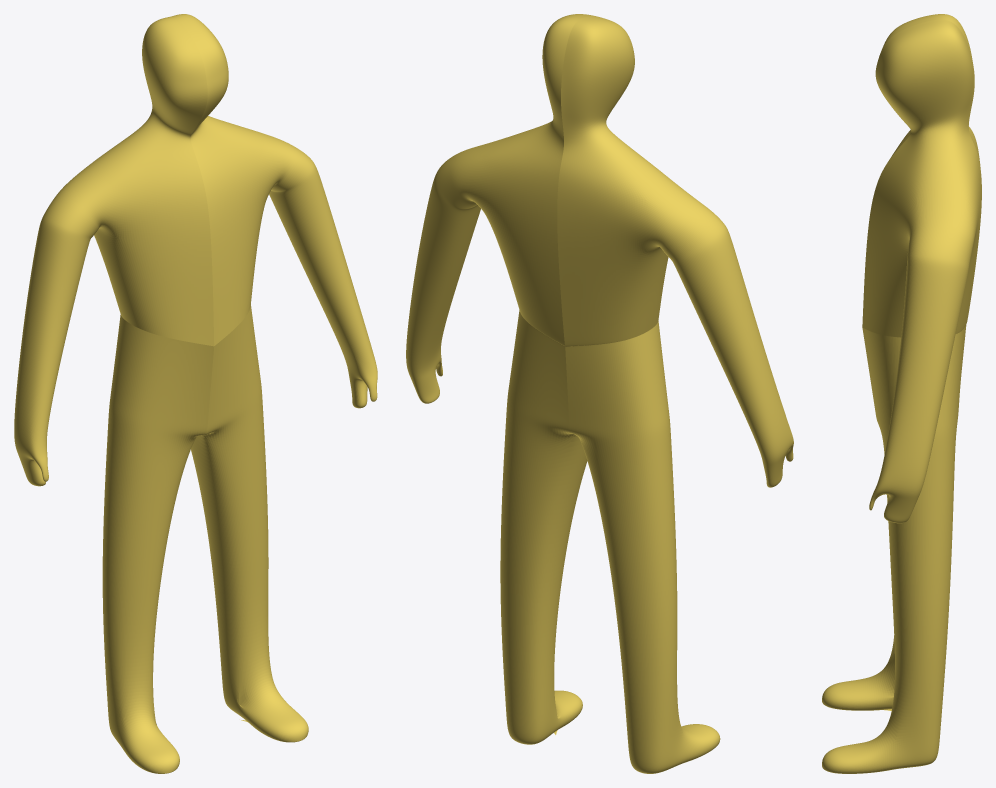
Rendered from chmo.fbx.
3 renders of one model, left to right at view 1: azimuth 30°, elevation 25°; view 2: azimuth 150°, elevation 25°; view 3: azimuth 270°, elevation 25°, orthographic. The views are drawn at different scales.
Parts seen in each view (by area): view 1: Cube; view 2: Cube; view 3: Cube.
Part boxes in pixels (x1=…): Cube: x1=14, y1=14, x2=377, y2=773; Cube: x1=406, y1=14, x2=793, y2=773; Cube: x1=822, y1=14, x2=981, y2=773.
Bounding box in the file's own units: 1097 × 2088 × 424.
